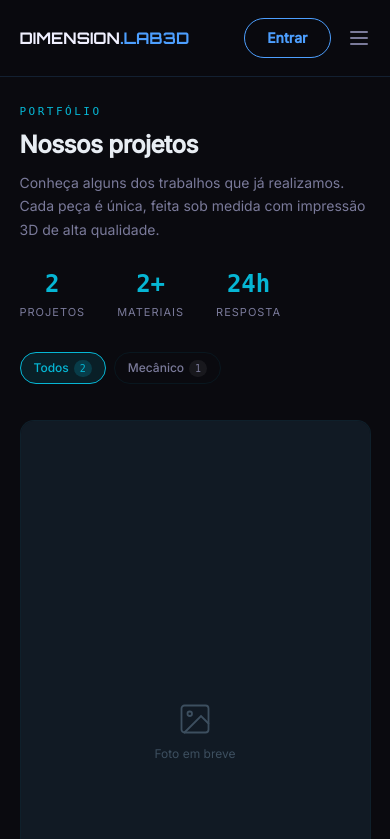
Scenario: Portfolio page › re-fetches without category param when Todos is selected
Click the button "Mecânico 1" at (167, 368), box [114,352,221,384]
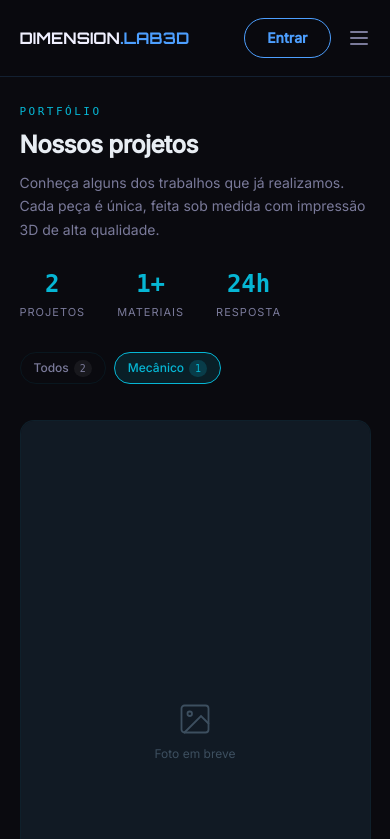
Click the button "Todos 2" at (63, 368), box [20,352,106,384]
(page scrolled)
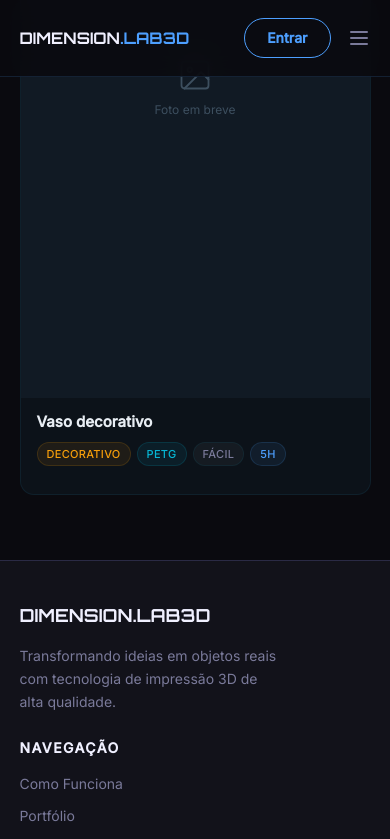
Expected: the heading "Vaso decorativo" is shown, [36,412,152,431]
